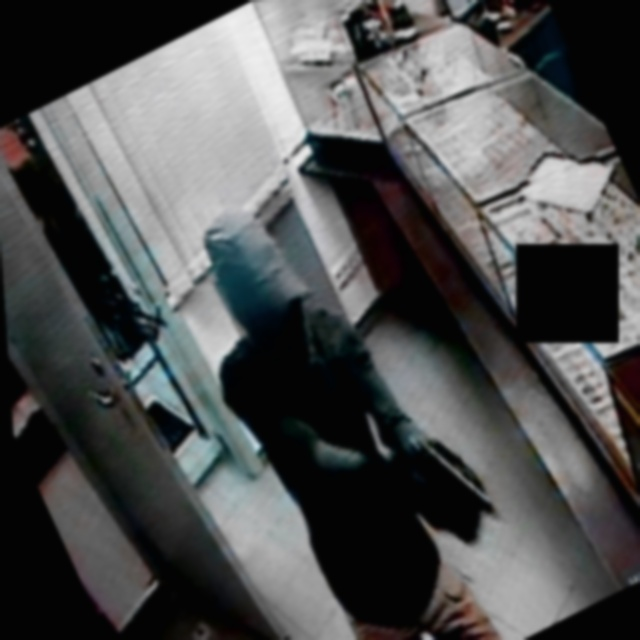gun: (403, 414, 508, 547)
